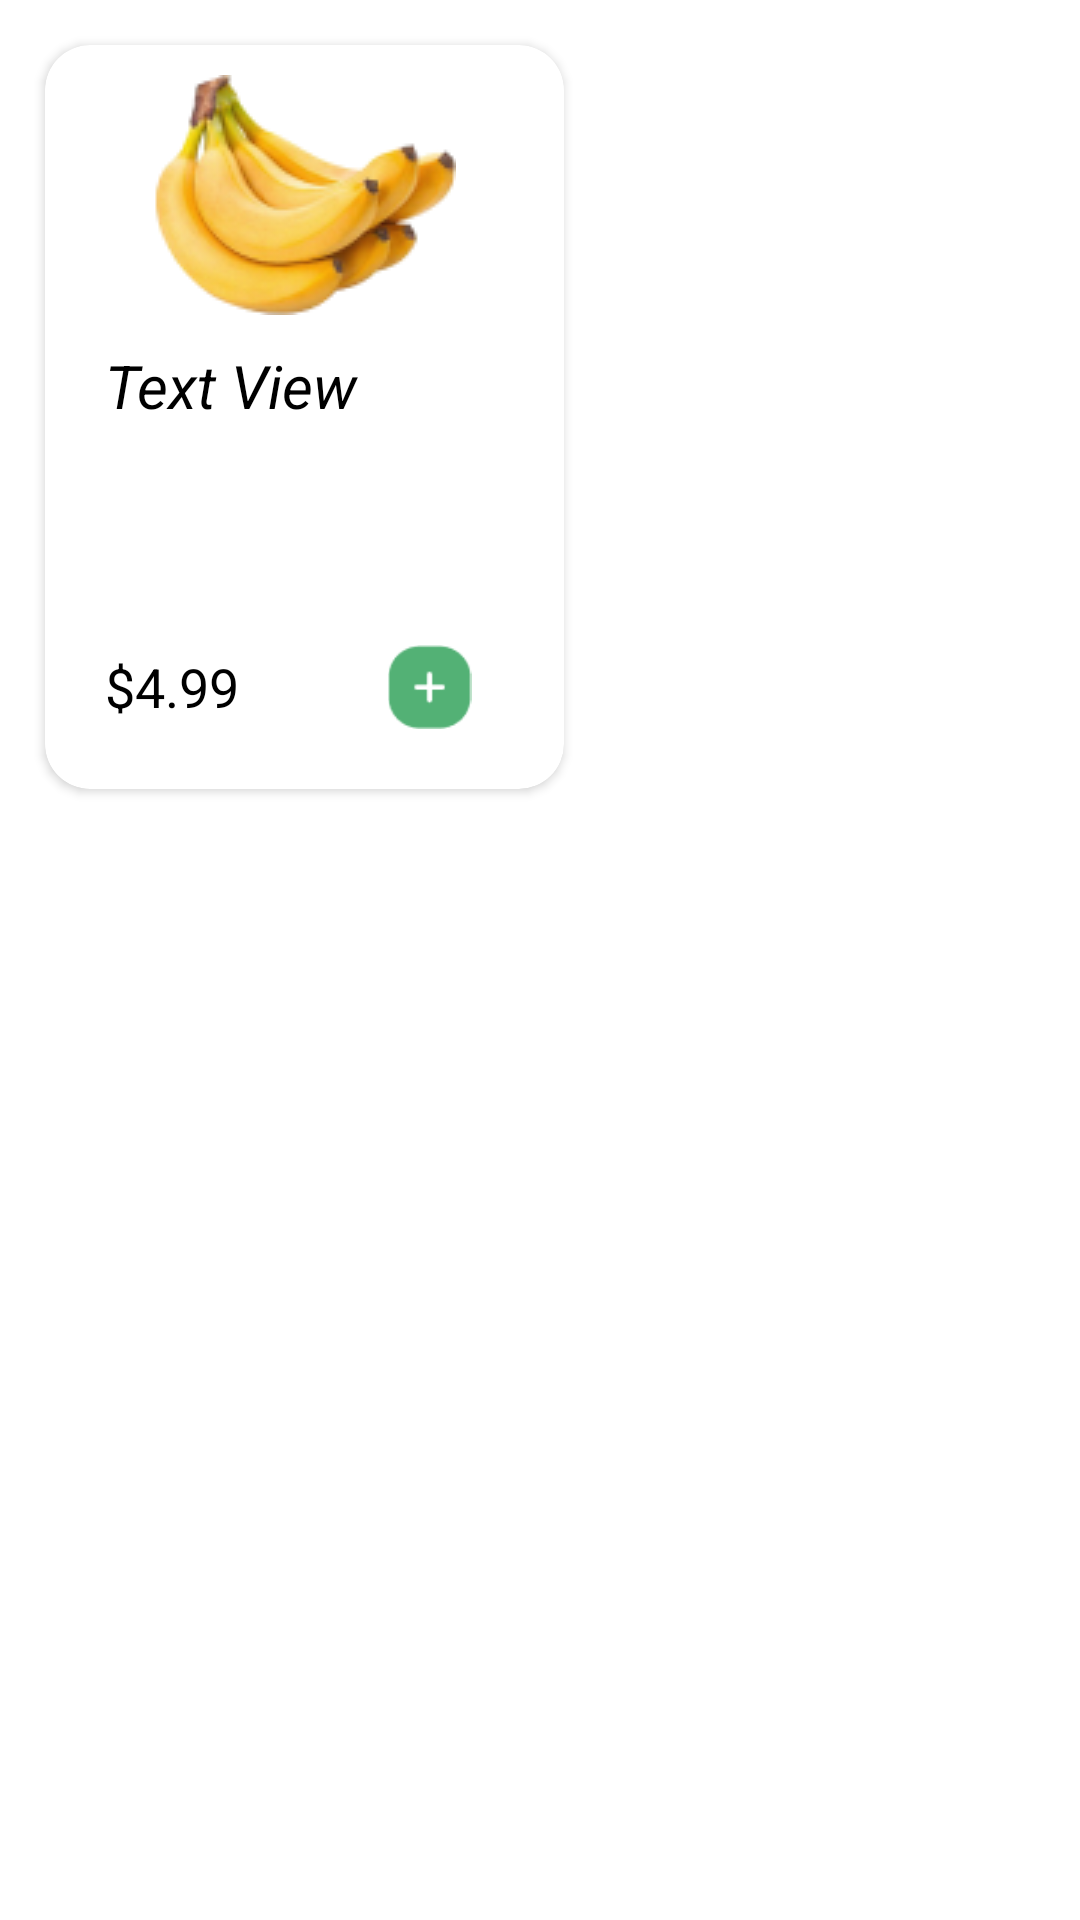

Screen size 1080*1920. Icon name, then its center in pixels as (x,y):
banana: (305,195)
plus: (430,687)
